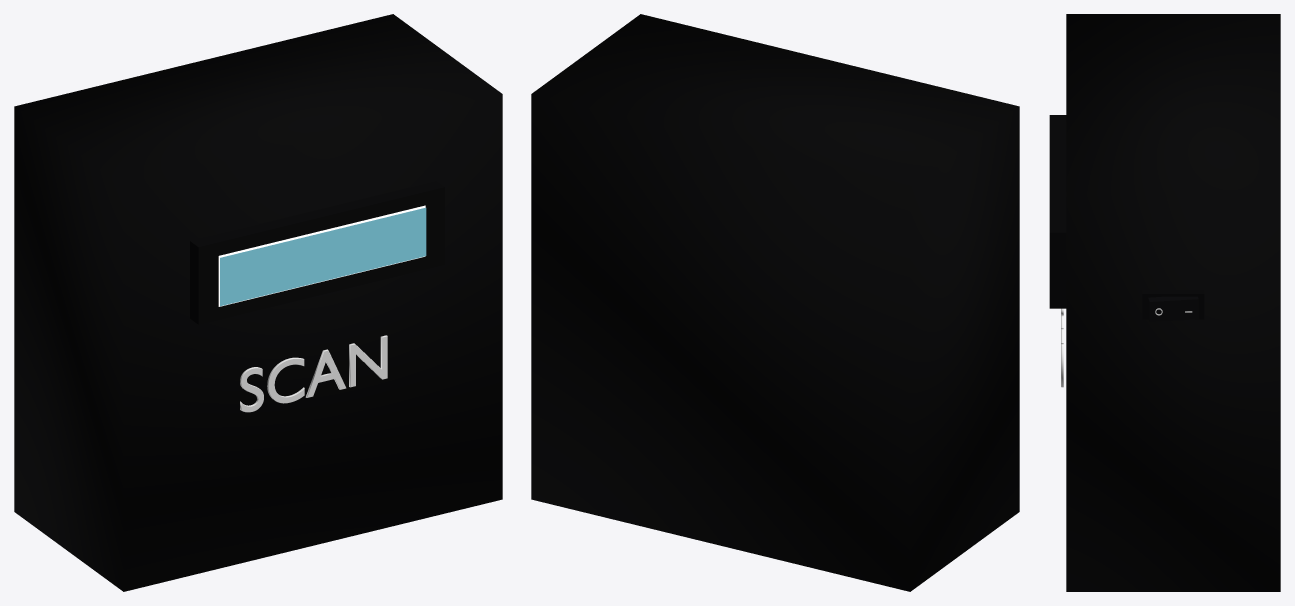
Rendered from verigate-device.glb.
The picture shows the model from 3 angles, left to right: view 1: azimuth 30°, elevation 25°; view 2: azimuth 150°, elevation 25°; view 3: azimuth 270°, elevation 25°; orthographic projection. The views are drawn at different scales.
Parts seen in each view (by area): view 1: Verigate_Body, Verigate_LCD_Bezel, LCD_Screen_Plane, Verigate_SCAN_Text, Verigate_LCD_Screen; view 2: Verigate_Body; view 3: Verigate_Body, Verigate_LCD_Bezel, Verigate_Switch_Rocker, Verigate_Switch_Frame.
Boxes of the visible parts, x1=… form: Verigate_Body: x1=14, y1=14, x2=502, y2=591; Verigate_LCD_Bezel: x1=190, y1=181, x2=444, y2=324; LCD_Screen_Plane: x1=220, y1=207, x2=426, y2=306; Verigate_SCAN_Text: x1=240, y1=335, x2=387, y2=412; Verigate_LCD_Screen: x1=218, y1=205, x2=425, y2=306; Verigate_Body: x1=531, y1=14, x2=1019, y2=591; Verigate_Body: x1=1066, y1=14, x2=1280, y2=591; Verigate_LCD_Bezel: x1=1049, y1=115, x2=1066, y2=308; Verigate_Switch_Rocker: x1=1148, y1=296, x2=1198, y2=322; Verigate_Switch_Frame: x1=1142, y1=290, x2=1204, y2=319.
Bounding box in the file's own units: 0.0949 × 0.092 × 0.0487.
